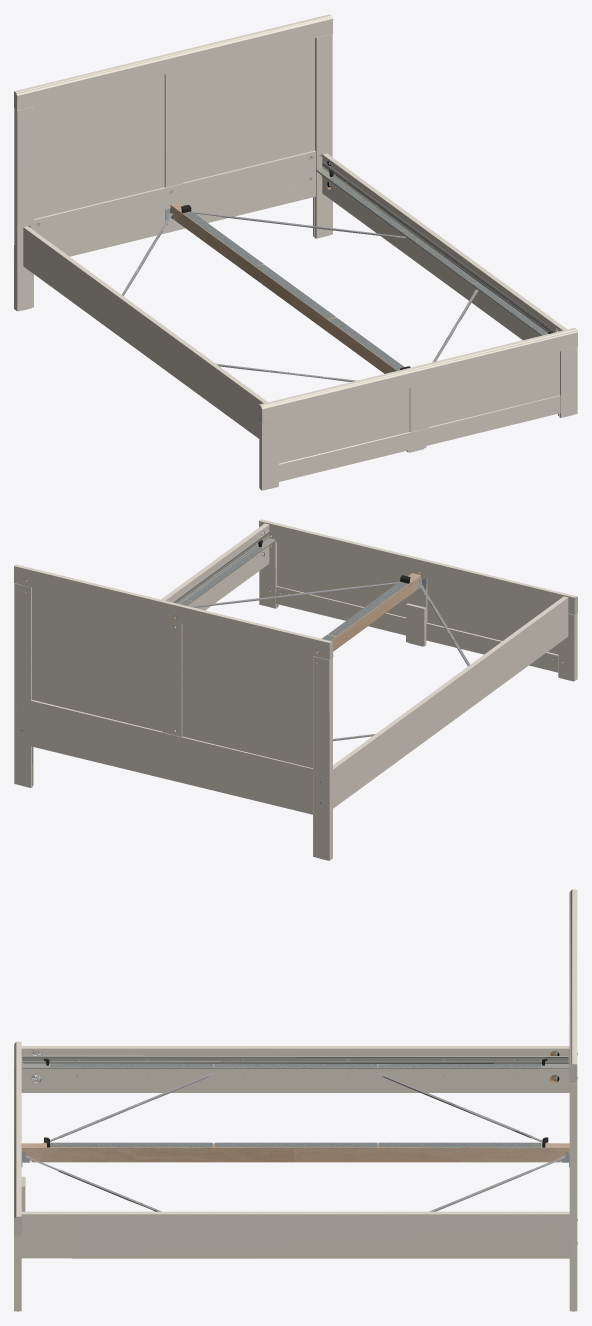
The picture shows the model from 3 angles, top to bottom: view 1: azimuth 30°, elevation 25°; view 2: azimuth 150°, elevation 25°; view 3: azimuth 270°, elevation 25°; orthographic projection. The views are drawn at different scales.
Parts seen in each view (by area): view 1: ASY_ART_20607154_S01_NV01; view 2: ASY_ART_20607154_S01_NV01; view 3: ASY_ART_20607154_S01_NV01.
Part boxes in pixels (left/top/right/bottom): ASY_ART_20607154_S01_NV01: left=14, top=14, right=577, bottom=490; ASY_ART_20607154_S01_NV01: left=14, top=519, right=577, bottom=860; ASY_ART_20607154_S01_NV01: left=14, top=889, right=577, bottom=1311.
Bounding box in the file's own units: 1.52 × 1.01 × 2.07.
1 material, 1 textured.
